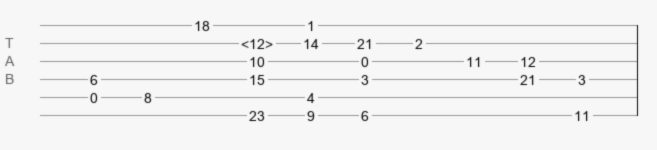0: (90, 90, 98, 100), (361, 54, 369, 64)
1: (307, 18, 315, 28)
10: (249, 54, 265, 64)
11: (466, 54, 482, 64), (574, 108, 590, 118)
12: (520, 54, 536, 64)
14: (303, 36, 319, 46)
15: (249, 72, 265, 82)
18: (194, 18, 210, 28)
2: (415, 36, 423, 46)
21: (357, 36, 373, 46), (520, 72, 536, 82)
23: (249, 108, 265, 118)
3: (361, 72, 369, 82), (578, 72, 586, 82)
4: (307, 90, 315, 100)
6: (90, 72, 98, 82), (361, 108, 369, 118)
8: (144, 90, 152, 100)
9: (307, 108, 315, 118)
harmonic: (241, 36, 273, 46)
